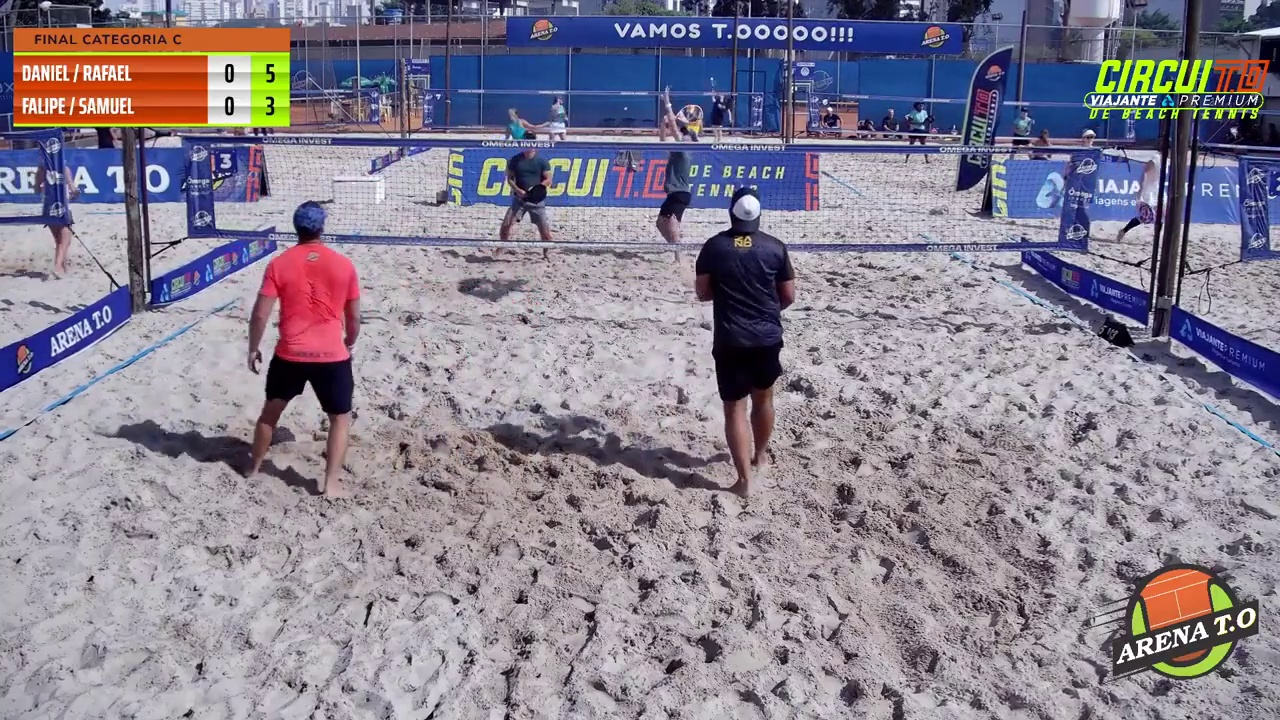court_line: (414, 0, 581, 475), (625, 0, 799, 389), (550, 0, 673, 426)
